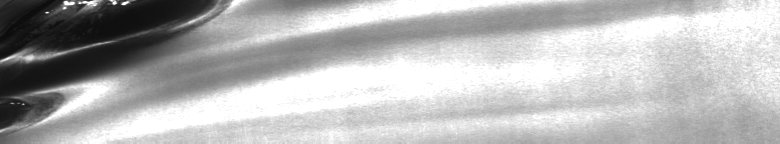ke: (34, 0, 238, 144)
